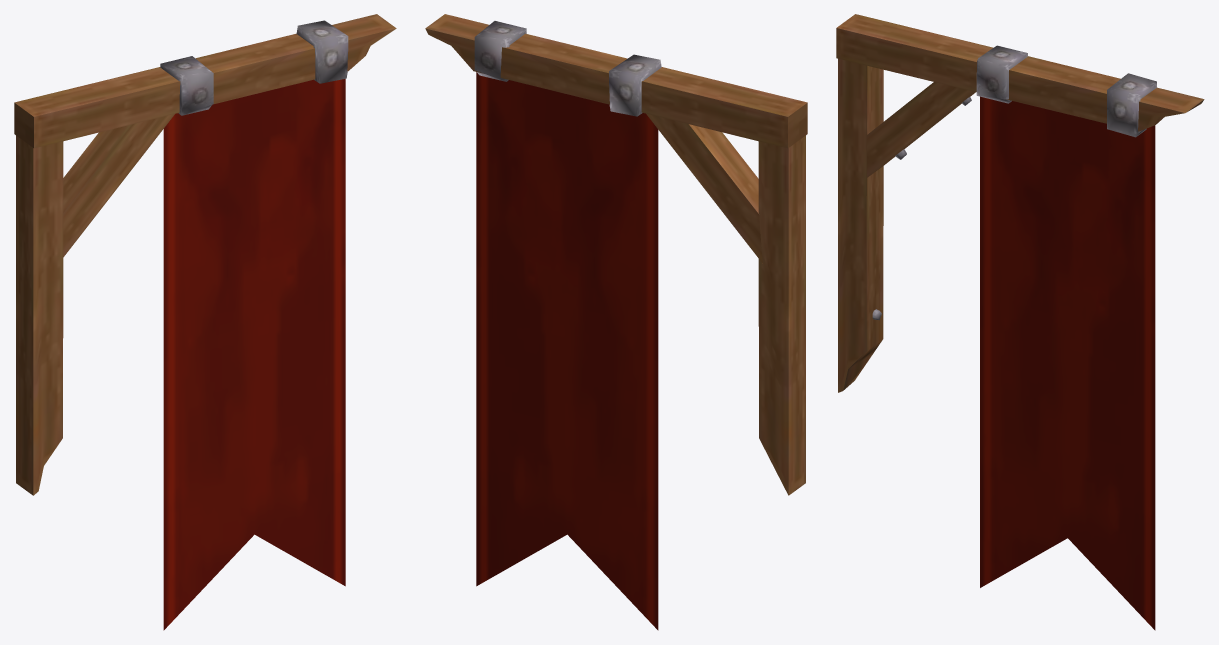
Rendered from Banner_1.gltf.
The picture shows the model from 3 angles, left to right: view 1: azimuth 30°, elevation 25°; view 2: azimuth 150°, elevation 25°; view 3: azimuth 330°, elevation 25°; orthographic projection. The views are drawn at different scales.
Parts seen in each view (by area): view 1: Banner_1; view 2: Banner_1; view 3: Banner_1.
Part boxes in pixels (x1,y1,x2,y2): Banner_1: [14, 14, 396, 630]; Banner_1: [425, 14, 807, 630]; Banner_1: [836, 14, 1204, 630].
Size of the model in its own units: 1.61 by 2.39 by 0.1907.
3 materials, 3 textured.
